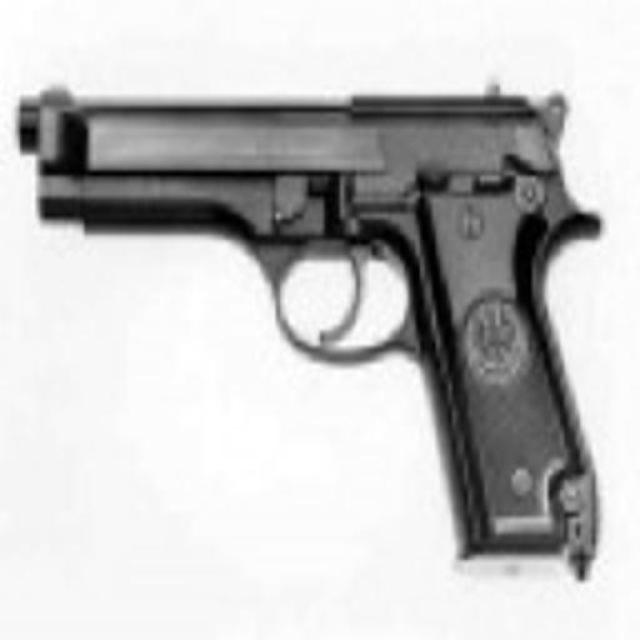pistol: (20, 74, 607, 570)
